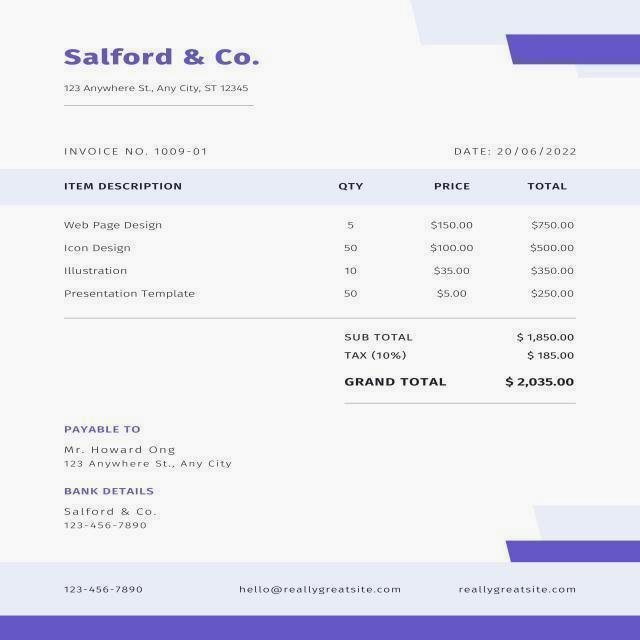ROI: (53, 169, 583, 308), (58, 419, 238, 538), (336, 323, 584, 398), (53, 574, 582, 605), (59, 42, 264, 97), (60, 142, 212, 160), (446, 142, 586, 161)
